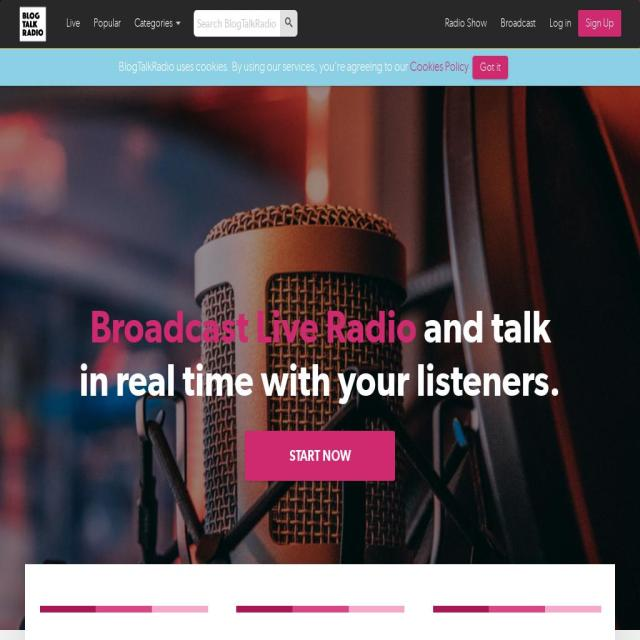button: (245, 430, 395, 481), (128, 5, 188, 42), (438, 5, 494, 42), (6, 5, 59, 43), (493, 5, 542, 42), (87, 5, 127, 42), (543, 5, 578, 42), (578, 10, 621, 37), (59, 5, 87, 42), (473, 55, 508, 79)
field: (194, 10, 280, 37)
heading: (80, 352, 560, 406), (89, 298, 424, 352), (423, 298, 551, 352), (474, 638, 558, 640), (89, 638, 159, 640), (300, 638, 339, 640)
image: (0, 0, 640, 630), (19, 5, 47, 43), (432, 605, 490, 613), (488, 605, 546, 613), (292, 605, 349, 613), (348, 605, 405, 613), (40, 605, 96, 613), (96, 605, 152, 613), (152, 605, 208, 613), (236, 605, 292, 613), (545, 605, 601, 613), (285, 14, 293, 34)
link: (410, 58, 468, 74)
text: (119, 58, 410, 74), (445, 16, 487, 30), (134, 16, 174, 30), (500, 16, 536, 30), (468, 58, 472, 74)
